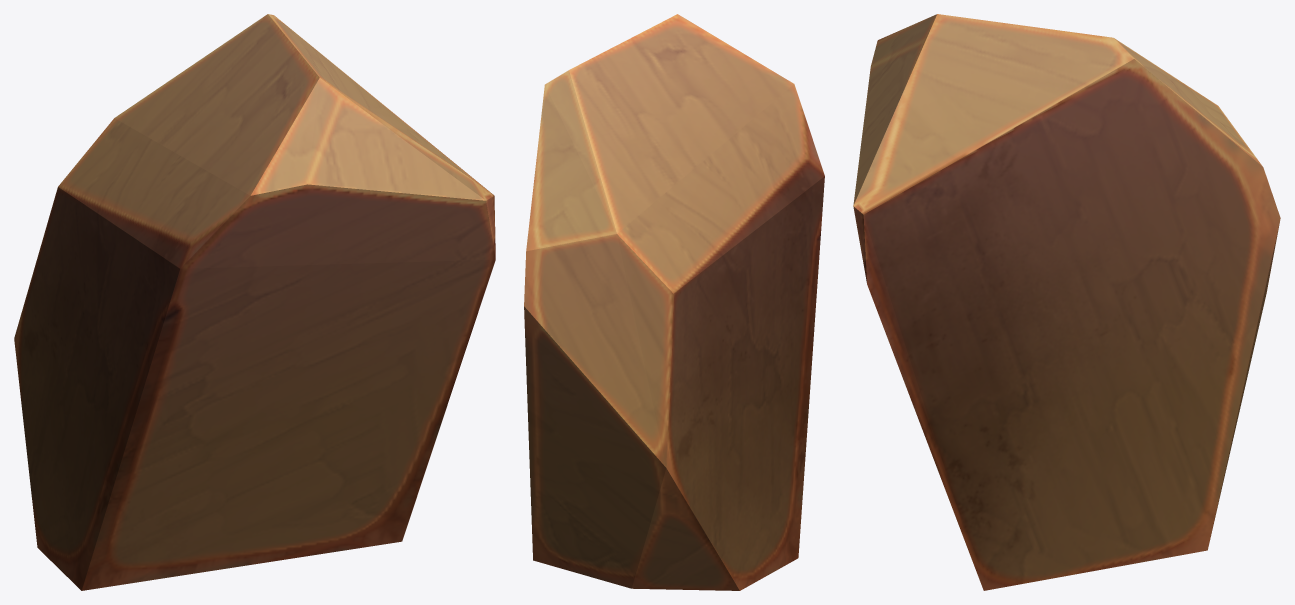
Rendered from rocks_5.fbx.
3 renders of one model, left to right at view 1: azimuth 30°, elevation 25°; view 2: azimuth 150°, elevation 25°; view 3: azimuth 270°, elevation 25°, orthographic. The views are drawn at different scales.
Parts seen in each view (by area): view 1: Cube.003_cell.027; view 2: Cube.003_cell.027; view 3: Cube.003_cell.027.
Part boxes in pixels (left/top/right/bottom): Cube.003_cell.027: left=14, top=14, right=495, bottom=590; Cube.003_cell.027: left=524, top=14, right=824, bottom=590; Cube.003_cell.027: left=853, top=14, right=1280, bottom=590.
Bounding box in the file's own units: 76.96 × 114 × 84.14.
